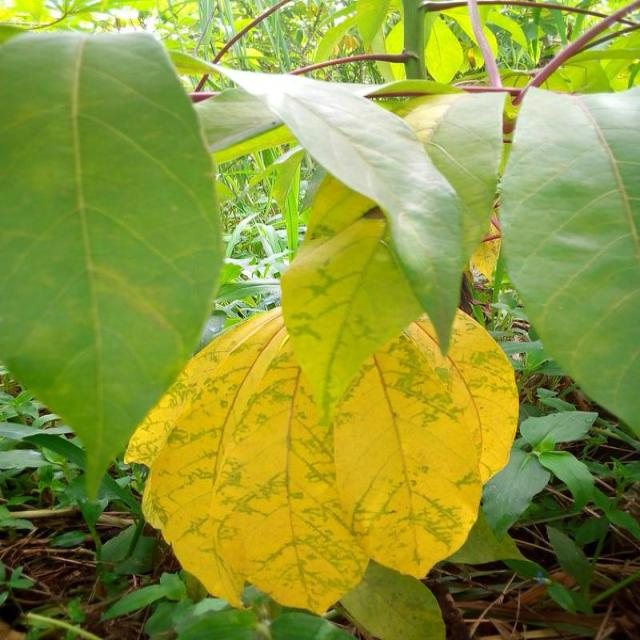cassava leaf: (125, 296, 520, 616), (1, 27, 225, 504), (496, 81, 640, 441)
